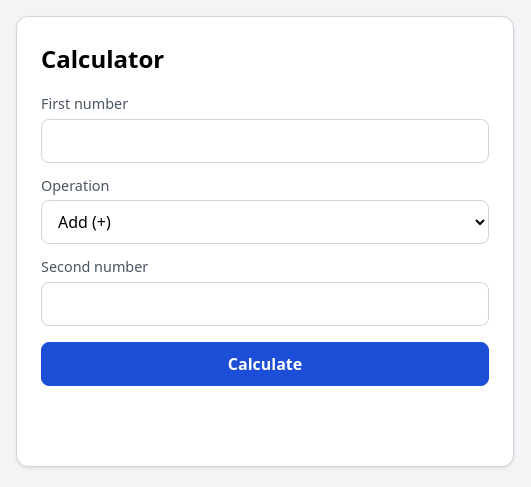
Test: shows the expression and the result returned by the API
Type "2" into the field labelled "First number" at (265, 141), box x1=41 y1=119 x2=489 y2=163
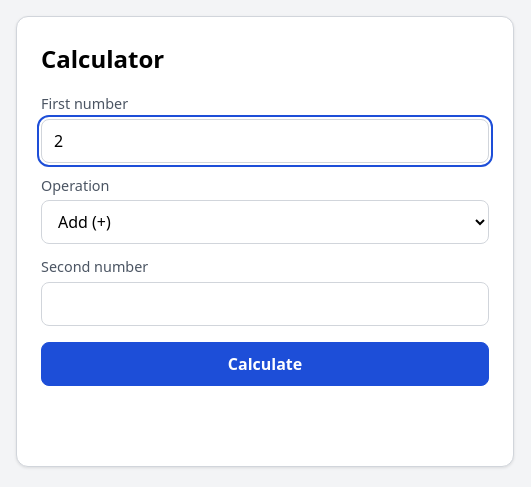
Type "3" into the field labelled "Second number" at (265, 304), box x1=41 y1=282 x2=489 y2=326
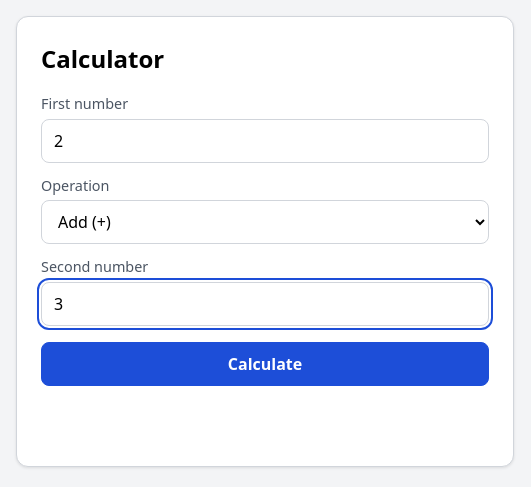
Click the button "Calculate" at (265, 364), box x1=41 y1=342 x2=489 y2=386
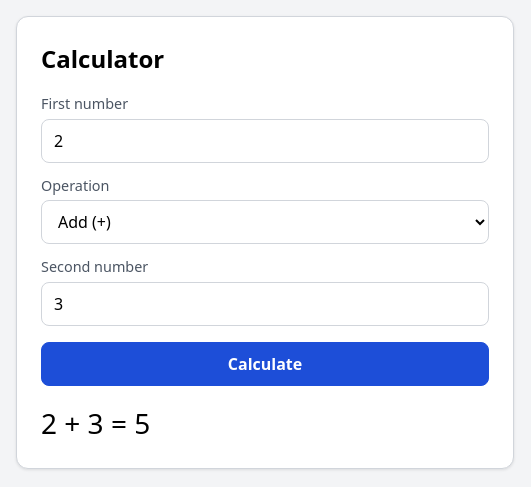
expect the text named "Result" reads "2 + 3 = 5": met, box x1=41 y1=404 x2=150 y2=442
